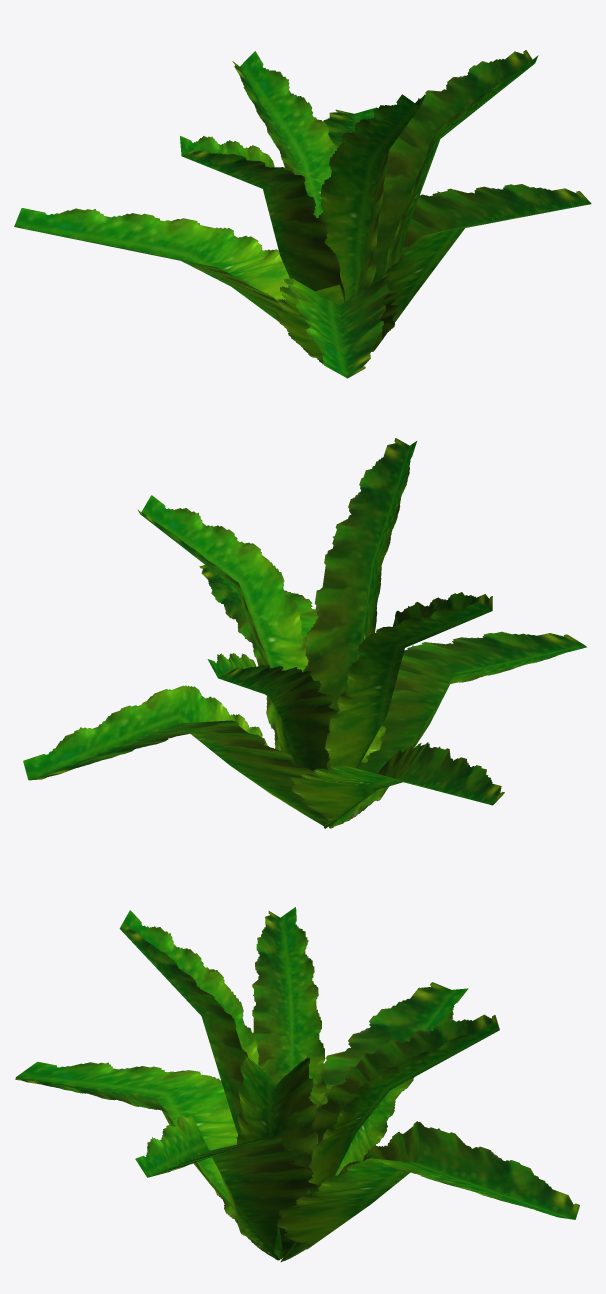
Rendered from LVL_RIV_TALLPLANT.obj.
3 renders of one model, top to bottom at view 1: azimuth 30°, elevation 25°; view 2: azimuth 150°, elevation 25°; view 3: azimuth 270°, elevation 25°, orthographic. The views are drawn at different scales.
Parts seen in each view (by area): view 1: instance_Eplant; view 2: instance_Eplant; view 3: instance_Eplant.
Boxes of the visible parts, x1,y1,x2,y2 form: instance_Eplant: (14,50,591,378); instance_Eplant: (23,438,586,828); instance_Eplant: (15,907,579,1262).
Bounding box in the file's own units: 180 × 137 × 197.
